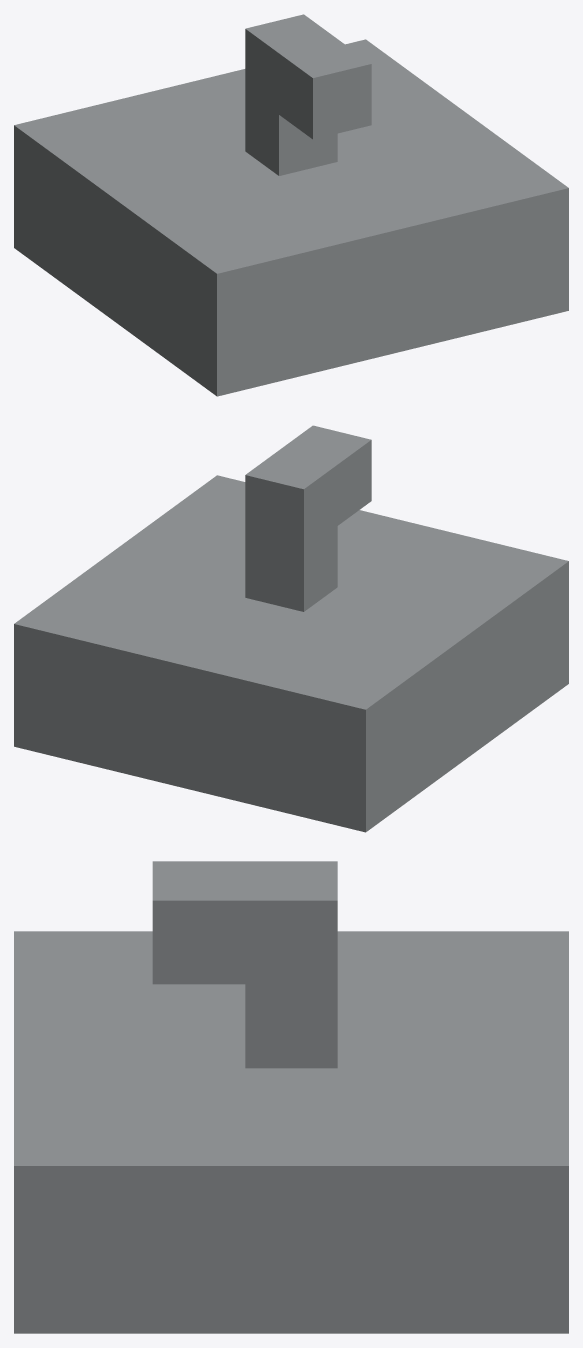
Rendered from chain_hook.obj.
3 renders of one model, top to bottom at view 1: azimuth 30°, elevation 25°; view 2: azimuth 150°, elevation 25°; view 3: azimuth 270°, elevation 25°, orthographic. The views are drawn at different scales.
Parts seen in each view (by area): view 1: cube, cube2, cube1; view 2: cube, cube2, cube1; view 3: cube, cube2, cube1.
Part boxes in pixels (x1,y1,x2,y2): cube: (14, 39, 568, 396); cube2: (245, 14, 337, 175); cube1: (279, 39, 371, 139); cube: (14, 475, 568, 832); cube2: (245, 450, 337, 611); cube1: (279, 425, 371, 525); cube: (14, 931, 568, 1333); cube2: (245, 861, 337, 1068); cube1: (152, 861, 245, 984).
Size of the model in its own units: 0.75 by 0.5 by 0.75.
